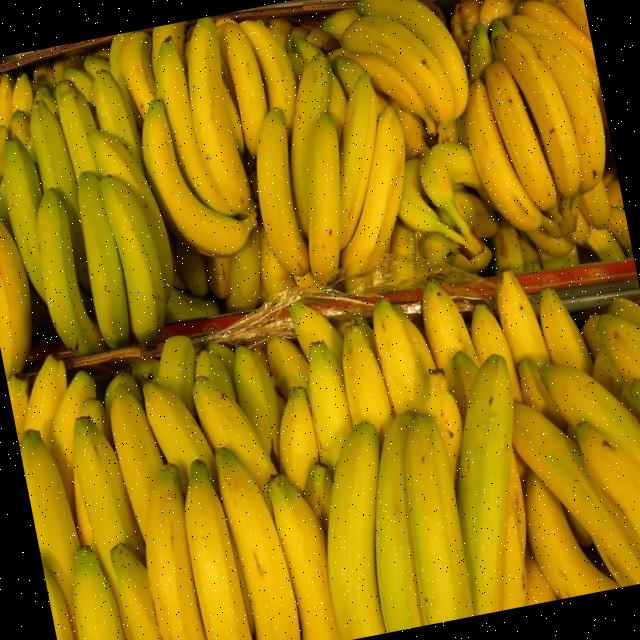banana: (137, 95, 253, 255), (211, 445, 300, 640), (493, 29, 579, 196), (132, 466, 207, 640), (182, 18, 248, 210), (337, 13, 454, 121), (461, 77, 541, 228), (479, 58, 556, 208), (339, 103, 404, 271), (248, 104, 309, 280), (572, 418, 640, 551)
